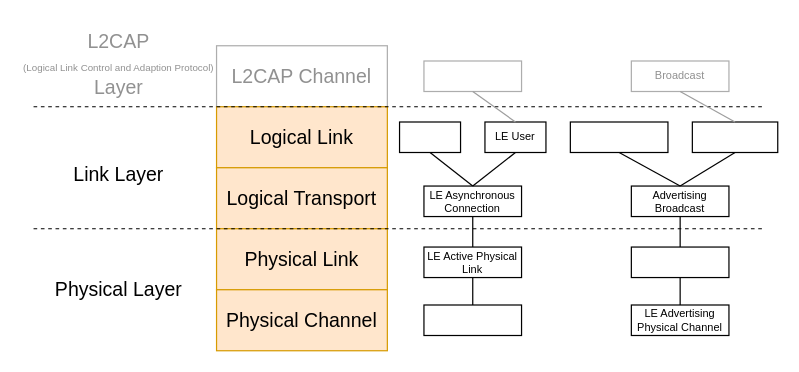
Image size: 799x372. Some labels were removed from this diagram. The centre of each missing label's shape, as x and y in pixels:
"Advertising Broadcast Control" belongs at [618,136].
"Advertising Broadcast User" belongs at [734,136].
"LE Advertising Physical Link" belongs at [679,262].
"LE Control" belongs at [429,136].
"LE Piconet Physical Channel" belongs at [472,320].
"Unicast" belongs at [472,76].
